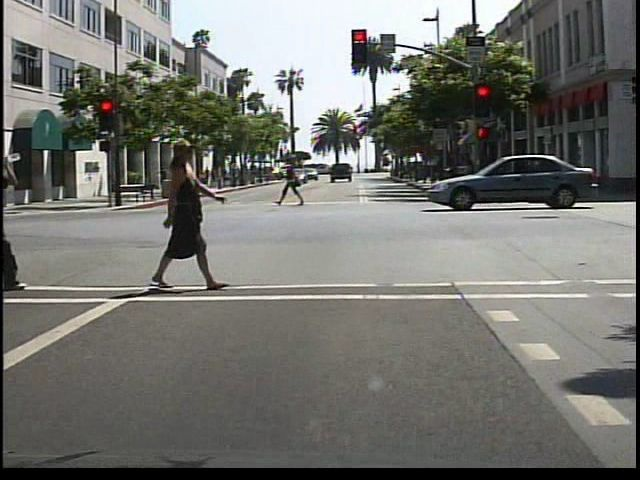person: (154, 135, 235, 291), (1, 144, 25, 296), (281, 159, 310, 209), (173, 163, 187, 189)
